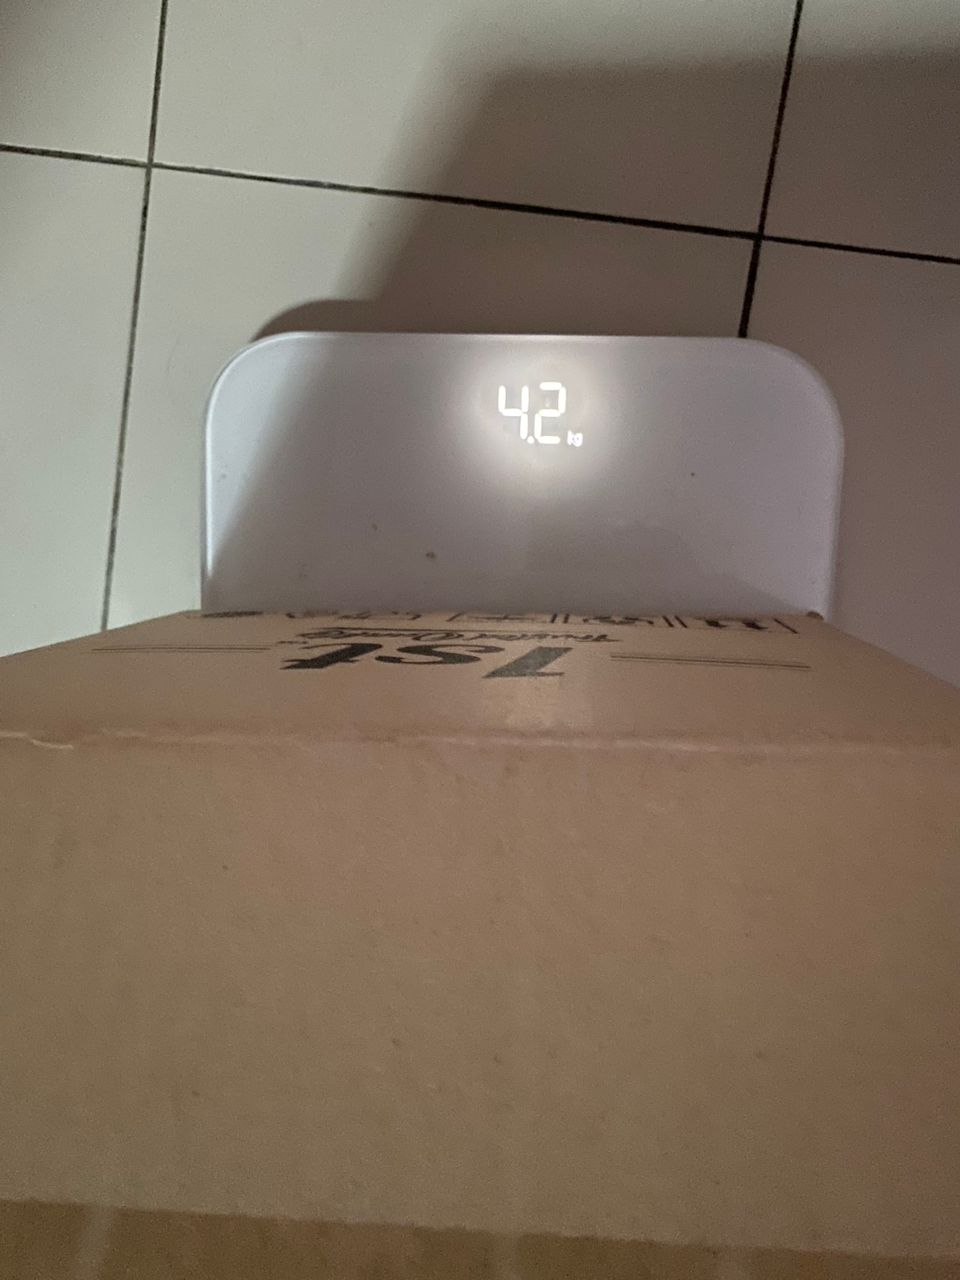4.2KG: (489, 338, 623, 472)
